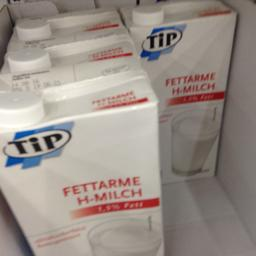milk: (0, 76, 162, 254), (124, 2, 236, 188)
